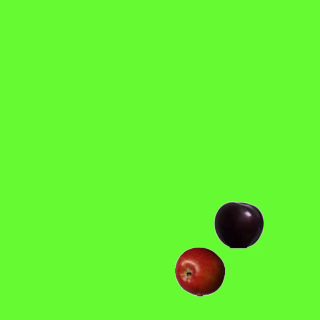Apple Braeburn: (174, 246, 224, 296)
Cherry Wax Black: (213, 199, 263, 249)
